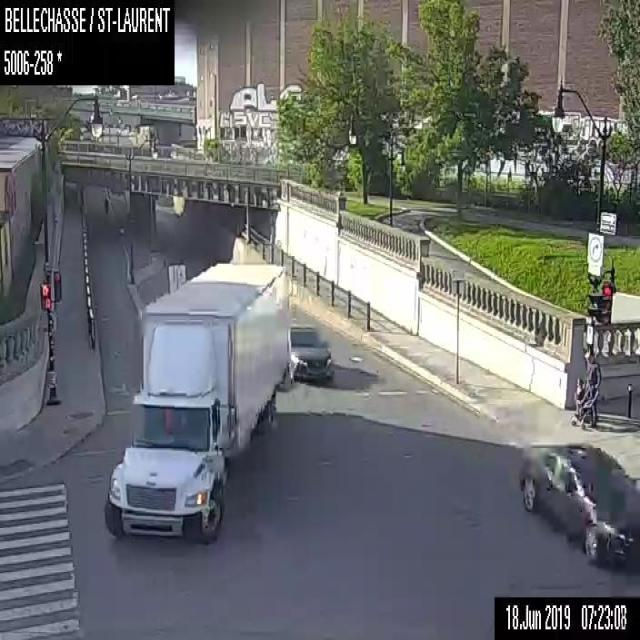pedestrian: (570, 349, 601, 428), (574, 376, 584, 415), (104, 194, 108, 212)
vehicle: (104, 261, 291, 543), (518, 443, 639, 570), (290, 324, 333, 381)
